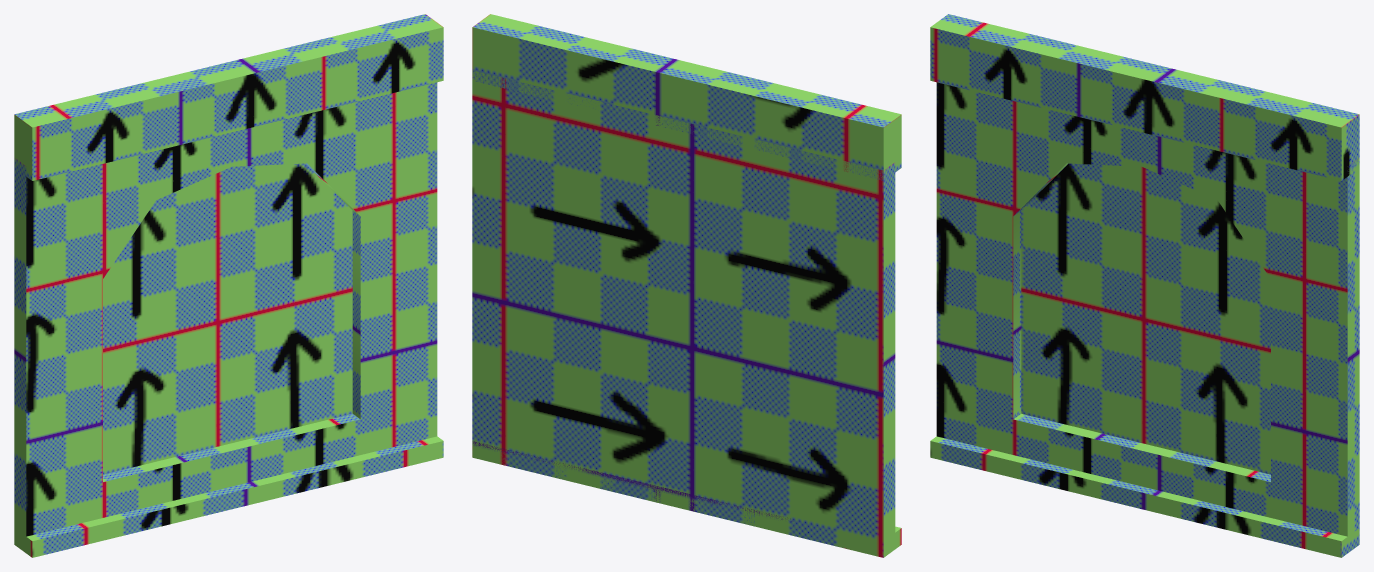
File: wall.obj
3 renders of one model, left to right at view 1: azimuth 30°, elevation 25°; view 2: azimuth 150°, elevation 25°; view 3: azimuth 330°, elevation 25°, orthographic.
Visible parts, largest first — view 1: wall1; view 2: wall1; view 3: wall1.
Part boxes in pixels (bbox=[...]): wall1: bbox=[14, 14, 443, 557]; wall1: bbox=[472, 14, 901, 557]; wall1: bbox=[930, 14, 1359, 557].
Size of the model in its own units: 10 by 10 by 0.7624.
